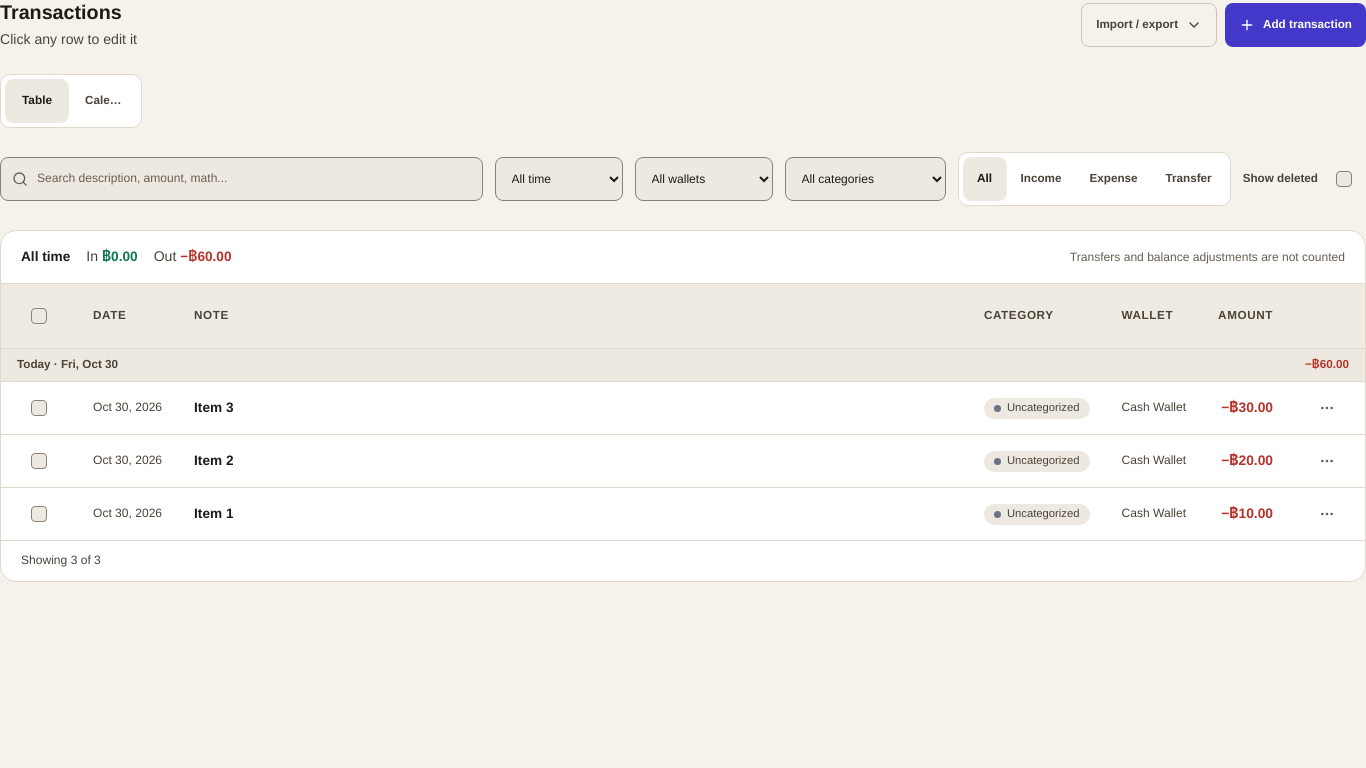
bulk actions with mocked hook (ADR 0109 O1) › a failed Delete keeps the dialog open with the message, and the selection
Click the checkbox named "Select Item 1": click(39, 514) [31,506,47,522]
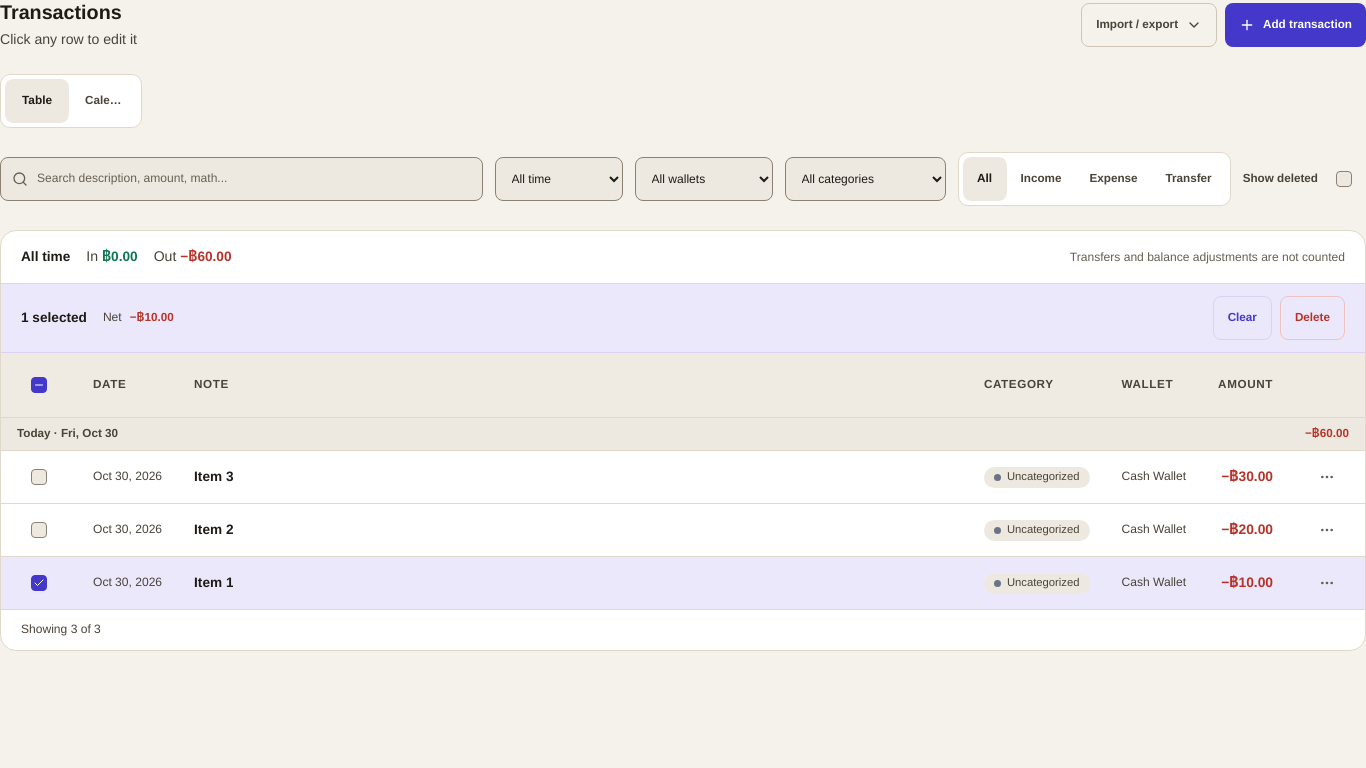
Click the checkbox named "Select Item 2": click(39, 530) [31,522,47,538]
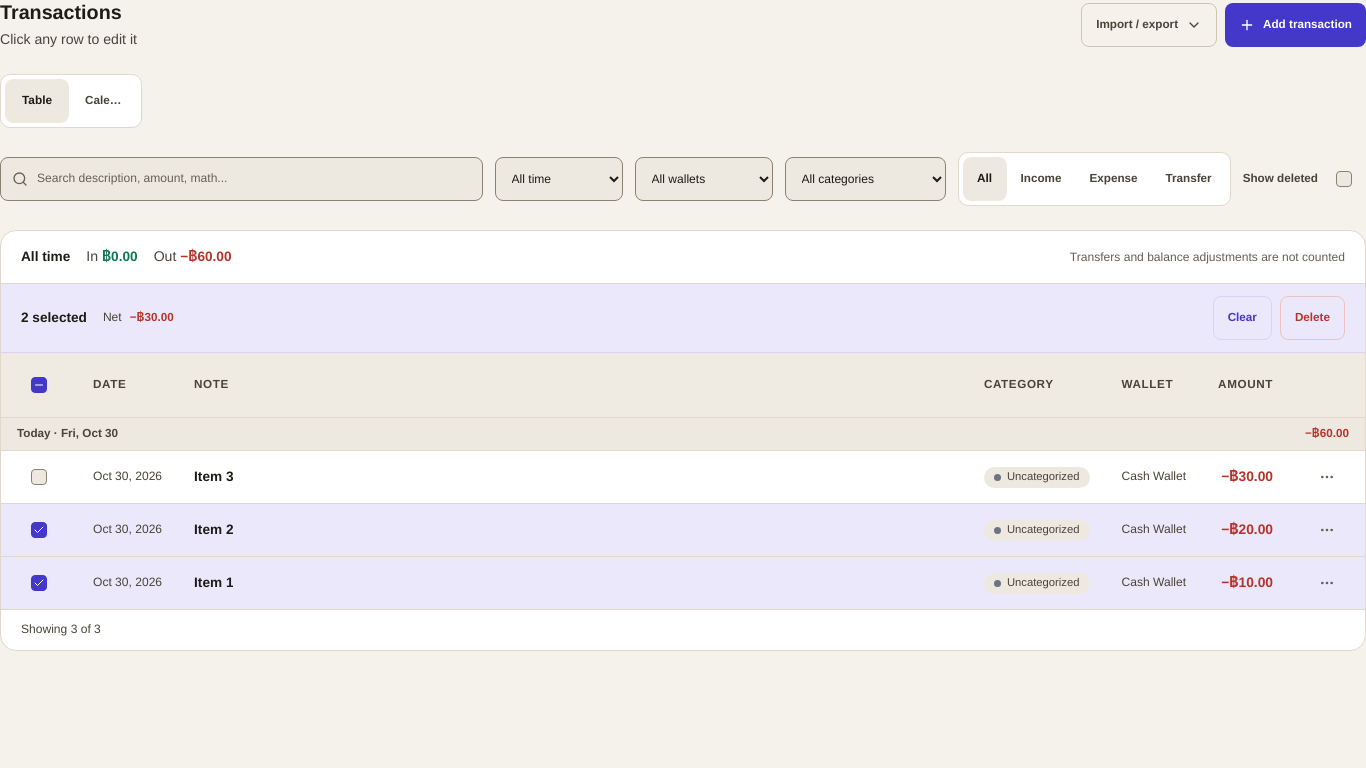
Click the checkbox named "Select Item 3": click(39, 477) [31,469,47,485]
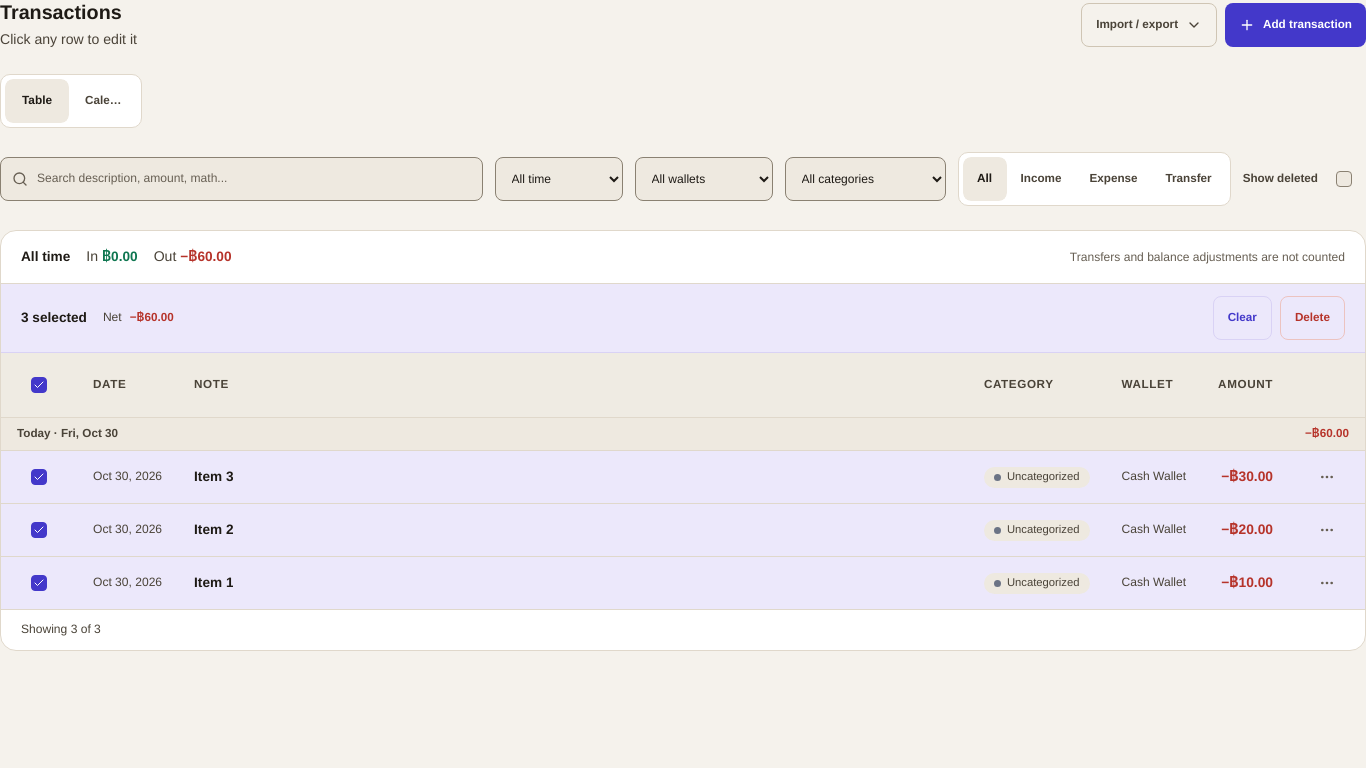
Click the button with id "tx-bulk-delete-btn": click(1312, 318) [1280,296,1345,340]
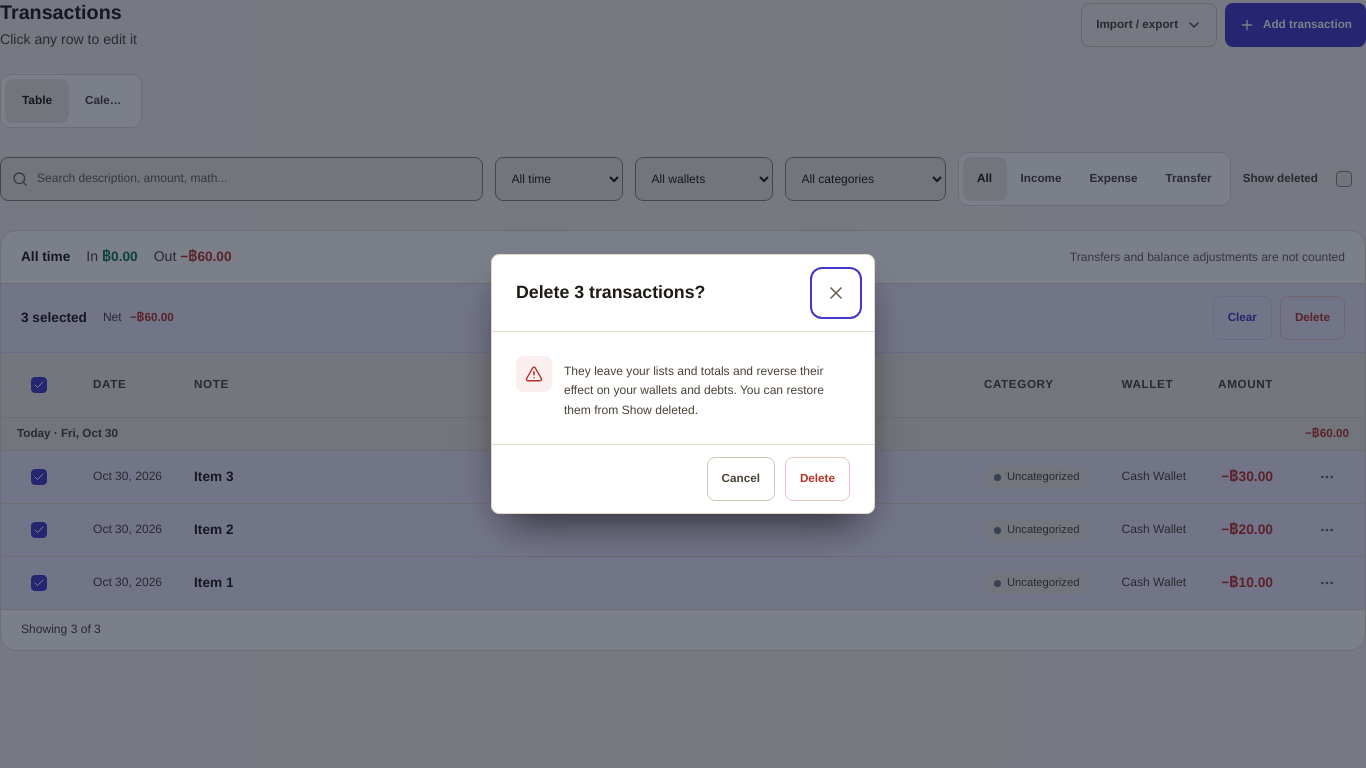
Click the button with id "confirm-destructive-btn": click(817, 479) [785,457,850,501]
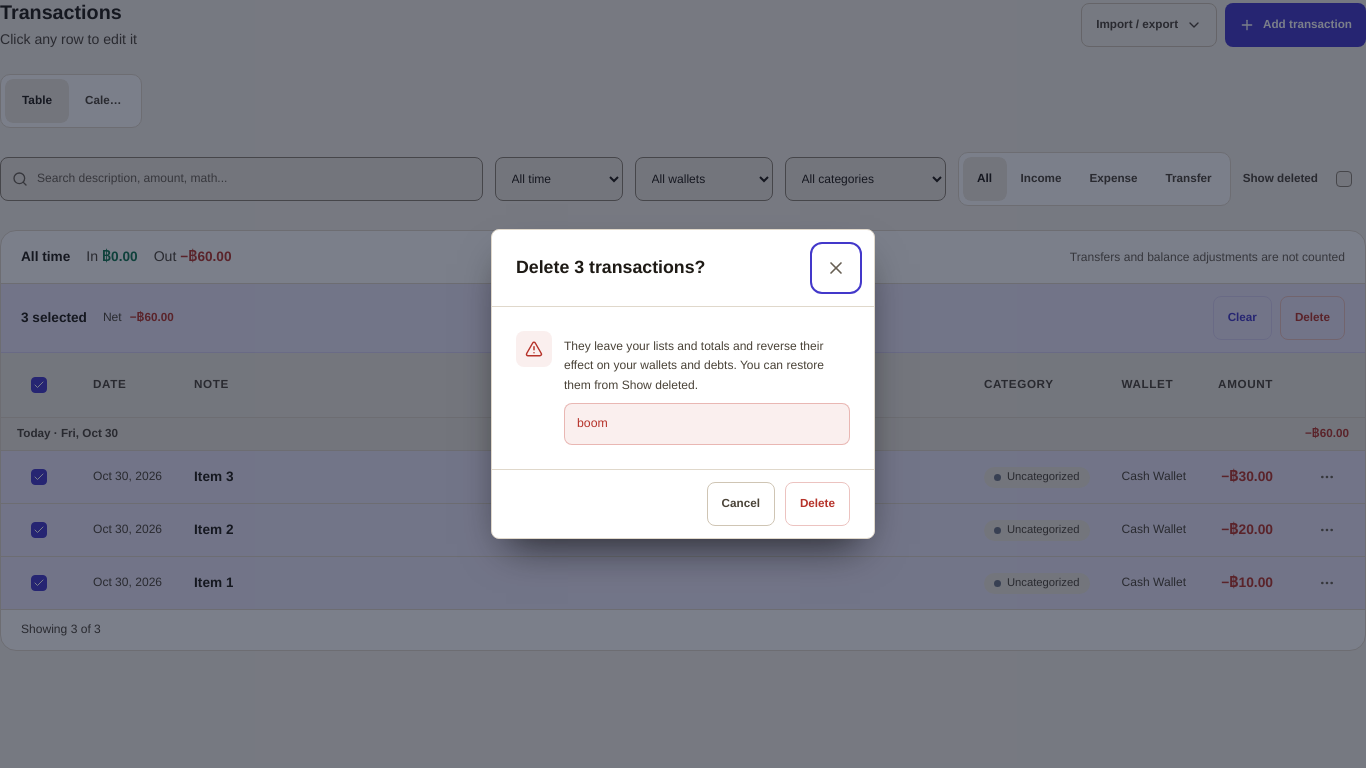
Expected: the message with id "tx-bulk-count" reads "3 selected", [21,308,87,328]
Expected: the dialog "Delete 3 transactions?" shows "boom", [577,414,608,433]
Click the button with id "confirm-cancel-btn": click(741, 504) [707,482,775,526]
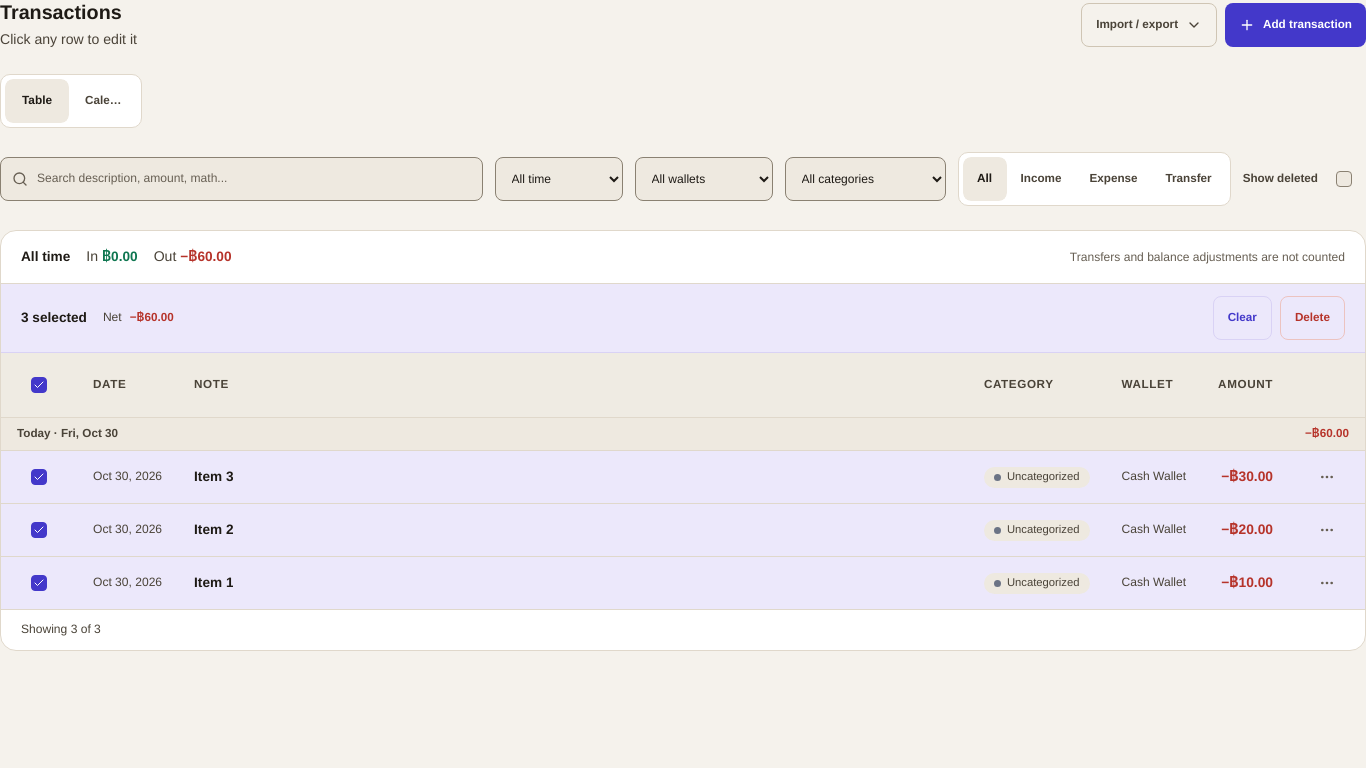
Expected: the dialog is gone
